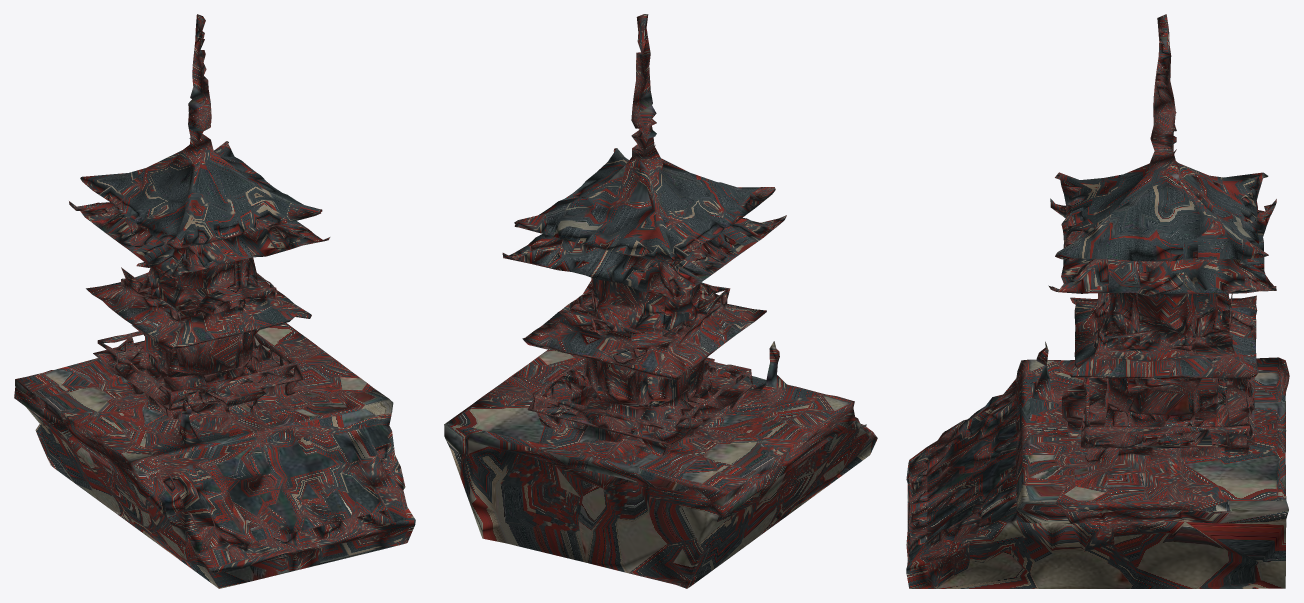
Rendered from ninja_runner_port_ninjaPagodaSilhouette.glb.
The picture shows the model from 3 angles, left to right: view 1: azimuth 30°, elevation 25°; view 2: azimuth 150°, elevation 25°; view 3: azimuth 270°, elevation 25°; orthographic projection. The views are drawn at different scales.
Bounding box in the file's own units: 1.06 × 1.82 × 1.21.
1 material, 1 textured.
